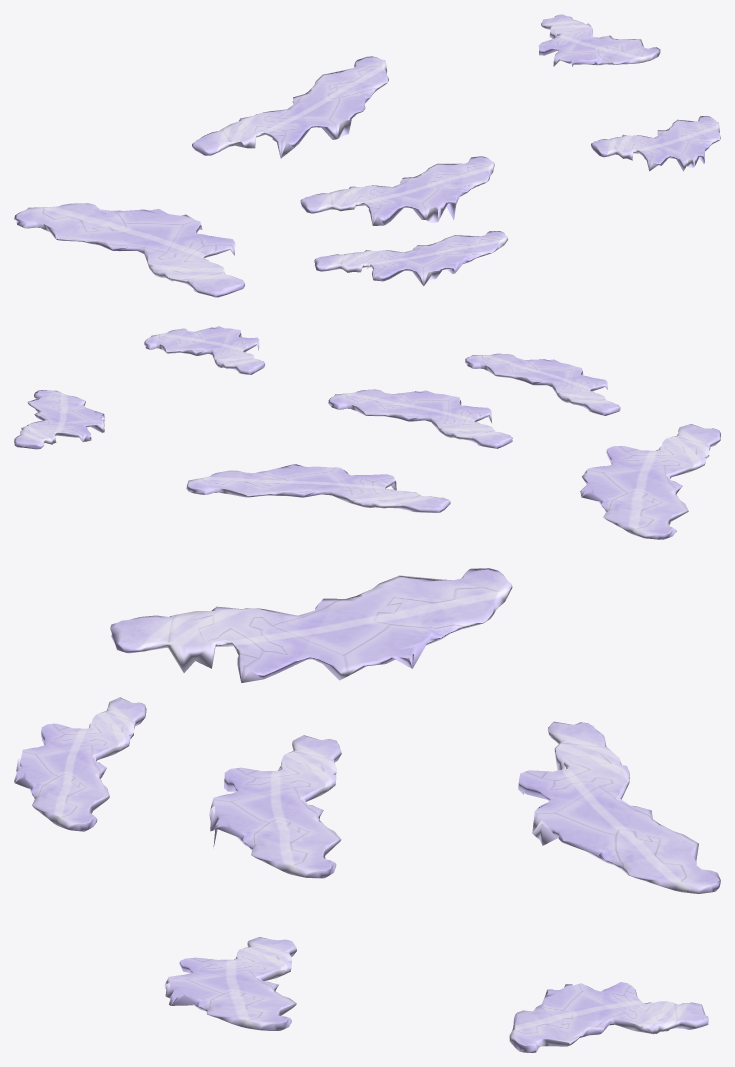
The model's file is LV9Ice.fbx.
3 renders of one model, top to bottom at view 1: azimuth 30°, elevation 25°; view 2: azimuth 150°, elevation 25°; view 3: azimuth 270°, elevation 25°, orthographic. The views are drawn at different scales.
Parts seen in each view (by area): view 1: RockWalkway_28; view 2: RockWalkway_28; view 3: RockWalkway_28.
Part boxes in pixels (x1,y1,x2,y2): RockWalkway_28: (14, 14, 720, 297); RockWalkway_28: (14, 326, 720, 539); RockWalkway_28: (14, 568, 720, 1052).
Size of the model in its own units: 215 by 6.04 by 134.
